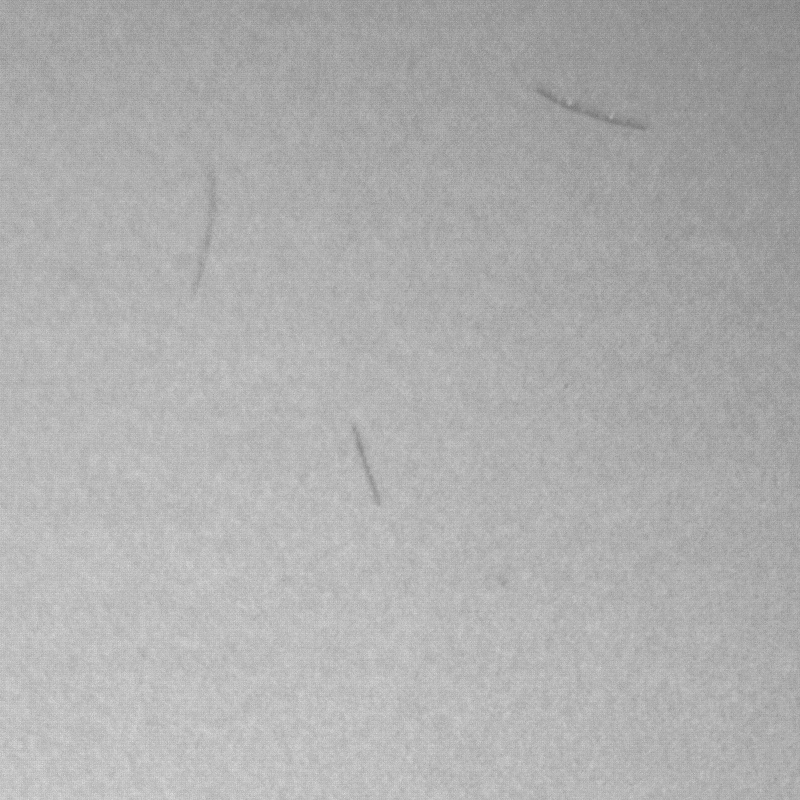defect: (540, 89, 655, 132), (187, 177, 216, 302), (348, 431, 384, 511)
